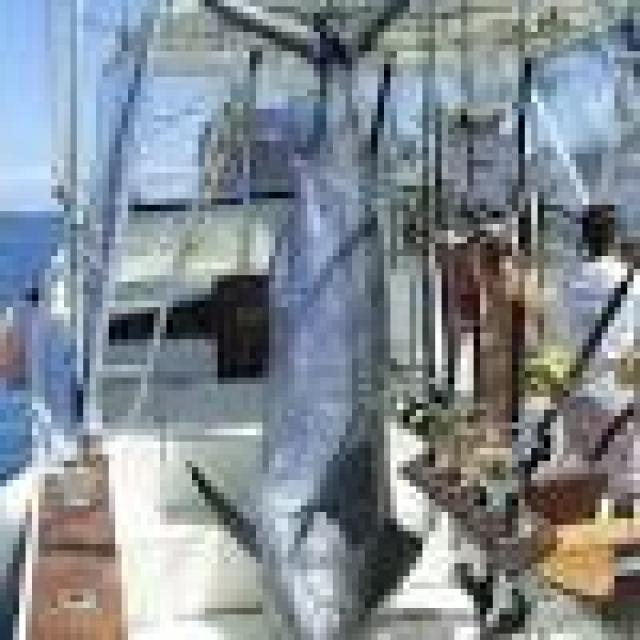Blue Marlin: (179, 6, 429, 640)
